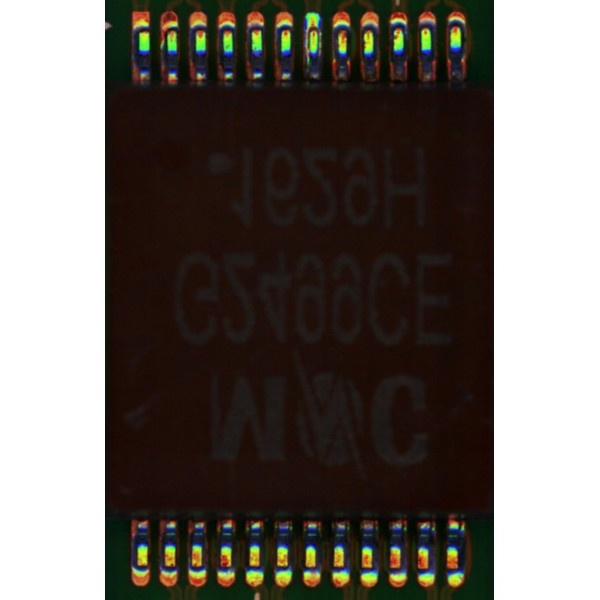Bad_podu: (309, 23, 318, 35)
Bad_qiaojiao: (318, 31, 323, 61), (305, 32, 309, 65)
